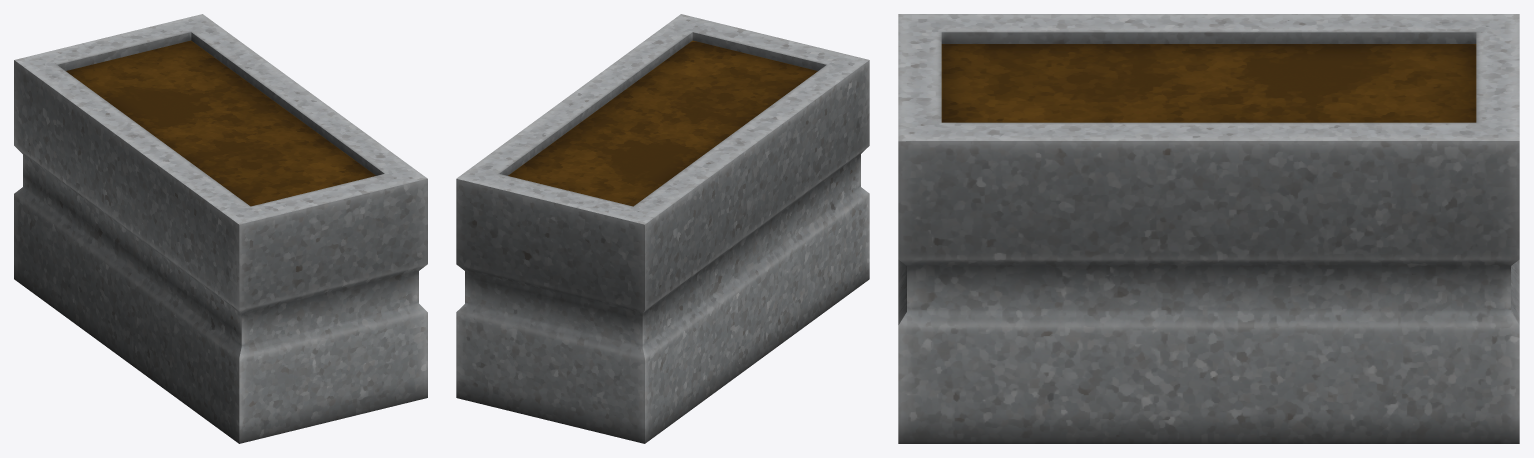
Rendered from FlowerPot.fbx.
3 renders of one model, left to right at view 1: azimuth 30°, elevation 25°; view 2: azimuth 150°, elevation 25°; view 3: azimuth 270°, elevation 25°, orthographic. The views are drawn at different scales.
Parts seen in each view (by area): view 1: Flowerpot; view 2: Flowerpot; view 3: Flowerpot.
Boxes of the visible parts, x1,y1,x2,y2 form: Flowerpot: [14, 14, 427, 443]; Flowerpot: [456, 14, 869, 443]; Flowerpot: [898, 14, 1519, 443].
Bounding box in the file's own units: 72.02 × 79.98 × 149.
